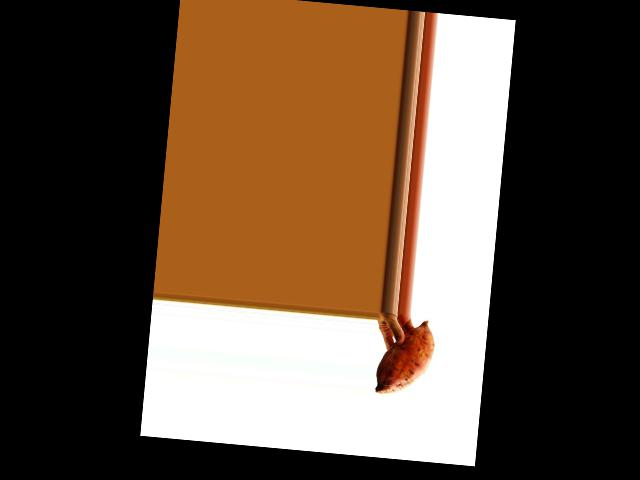sweet_potato: (372, 319, 441, 400)
